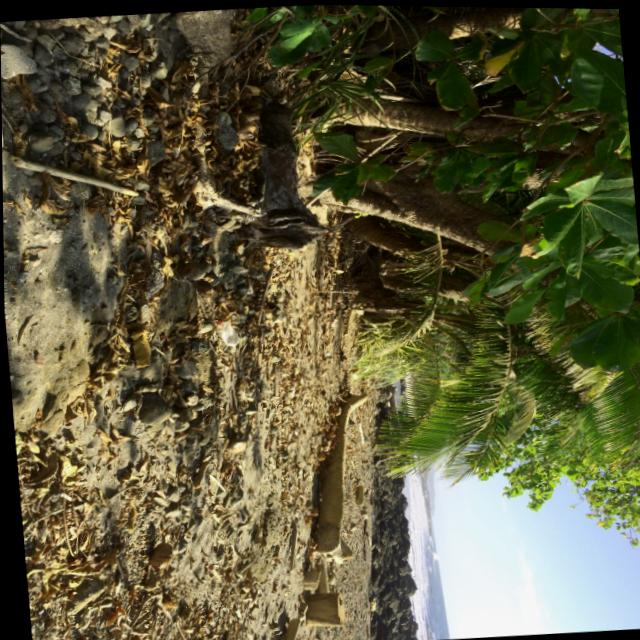Plastic: (207, 314, 239, 349)
